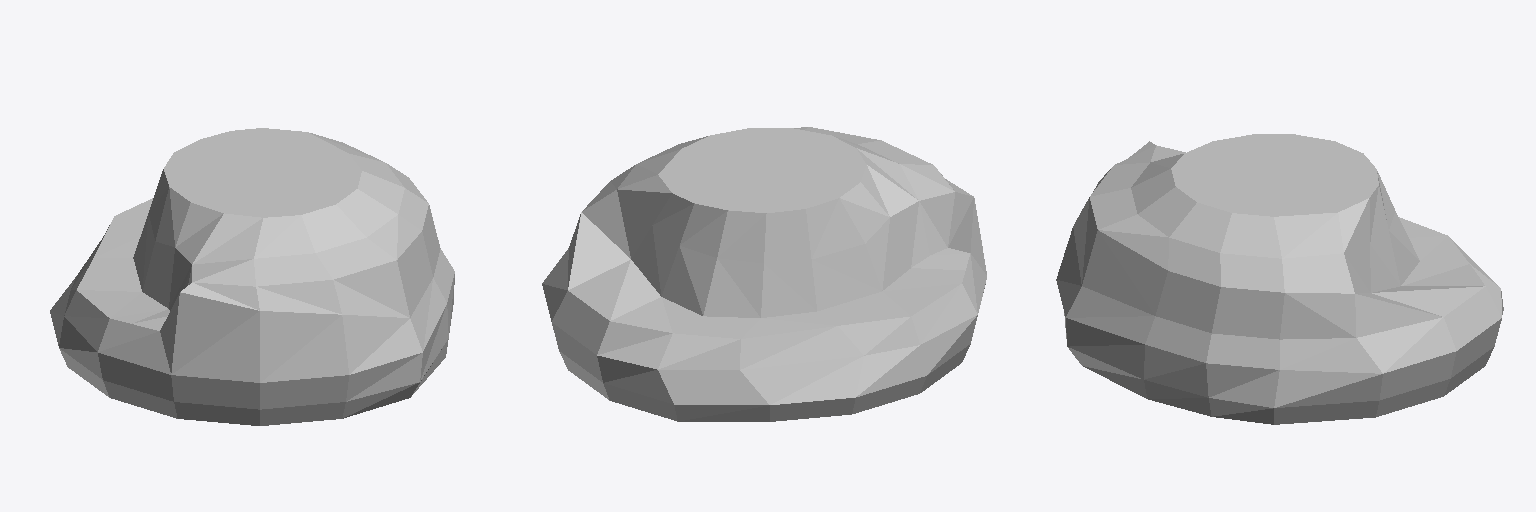
Rendered from Boulder1.obj.
The picture shows the model from 3 angles: view 1: azimuth 30°, elevation 25°; view 2: azimuth 150°, elevation 25°; view 3: azimuth 270°, elevation 25°; orthographic projection.
Parts seen in each view (by area): view 1: pSphere1; view 2: pSphere1; view 3: pSphere1.
Part boxes in pixels (bbox=[...]): pSphere1: bbox=[50, 128, 454, 425]; pSphere1: bbox=[542, 127, 986, 421]; pSphere1: bbox=[1056, 134, 1503, 424].
Size of the model in its own units: 2 by 0.8612 by 2.11.